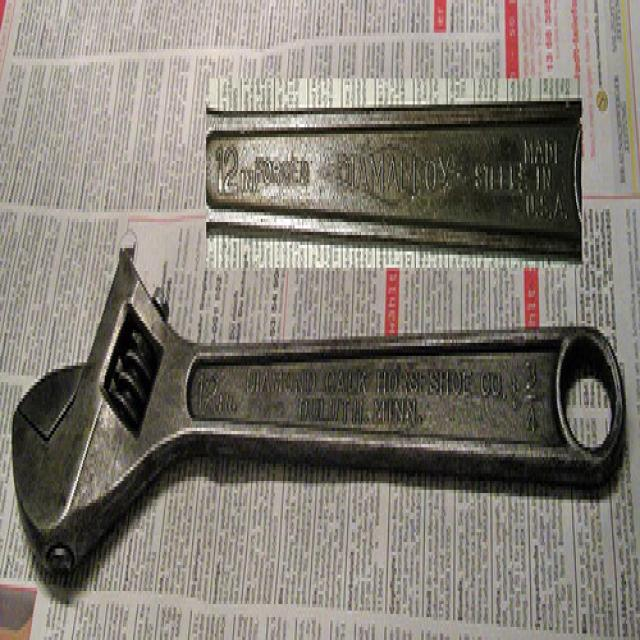wrench: (0, 238, 640, 588)
